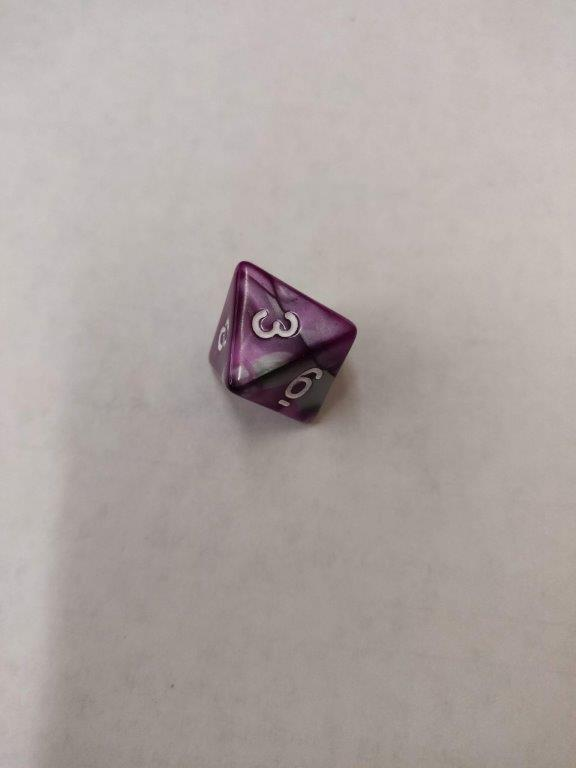d8-3: (207, 261, 359, 427)
